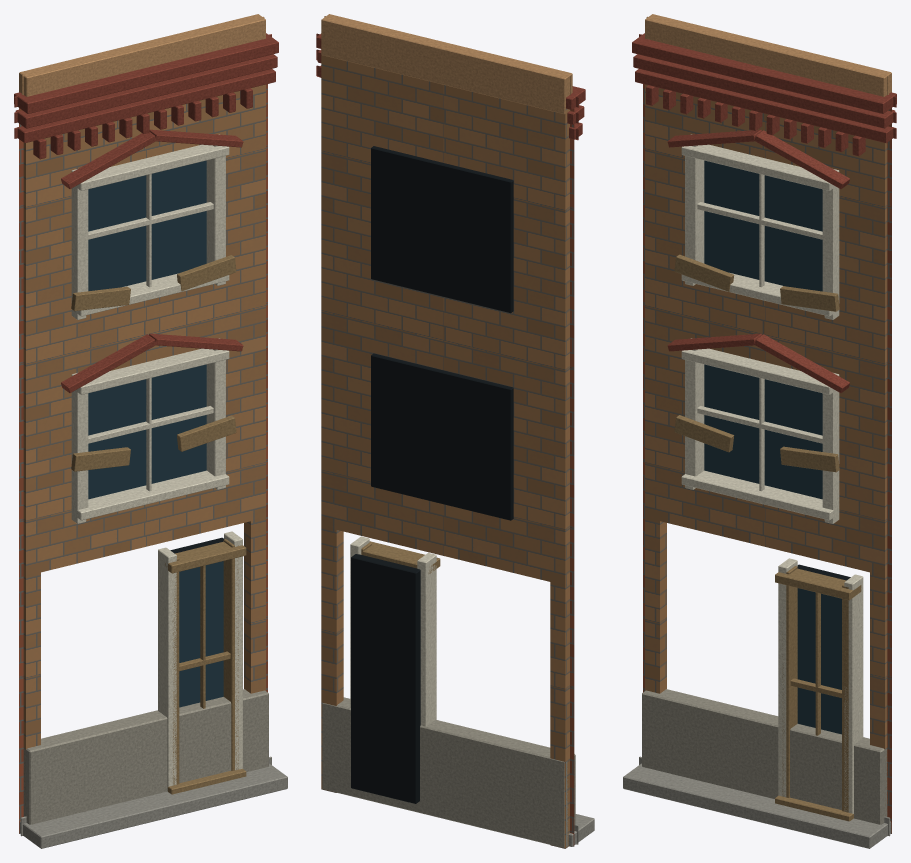
Rendered from VICT1B_lod1.glb.
3 views of the same model, side by side, from view 1: azimuth 30°, elevation 25°; view 2: azimuth 150°, elevation 25°; view 3: azimuth 330°, elevation 25° (orthographic).
Parts seen in each view (by area): view 1: VICT1B_FRONT_LOD1; view 2: VICT1B_FRONT_LOD1; view 3: VICT1B_FRONT_LOD1.
Boxes of the visible parts, x1=… form: VICT1B_FRONT_LOD1: x1=14, y1=14, x2=287, y2=848; VICT1B_FRONT_LOD1: x1=316, y1=14, x2=594, y2=848; VICT1B_FRONT_LOD1: x1=623, y1=14, x2=896, y2=848.
Bounding box in the file's own units: 3.44 × 9.66 × 0.68.
11 materials, 9 textured.
